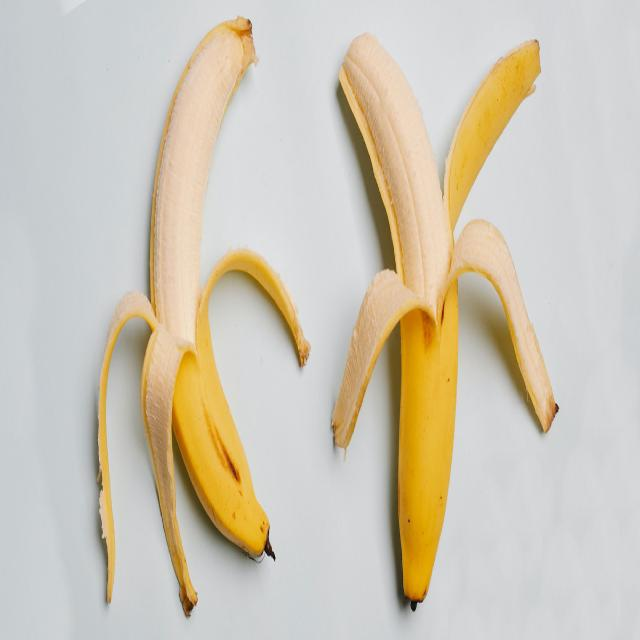banana_peel: (316, 12, 577, 634), (75, 15, 324, 639)
